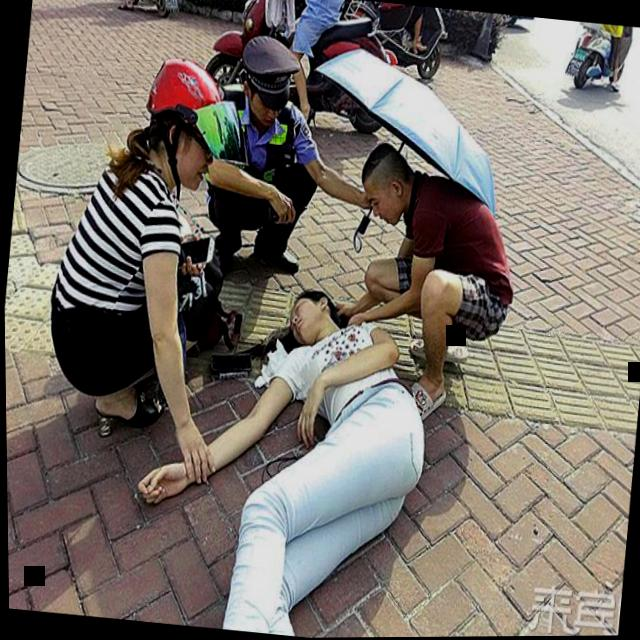Fall-Detected: (99, 231, 449, 639)
